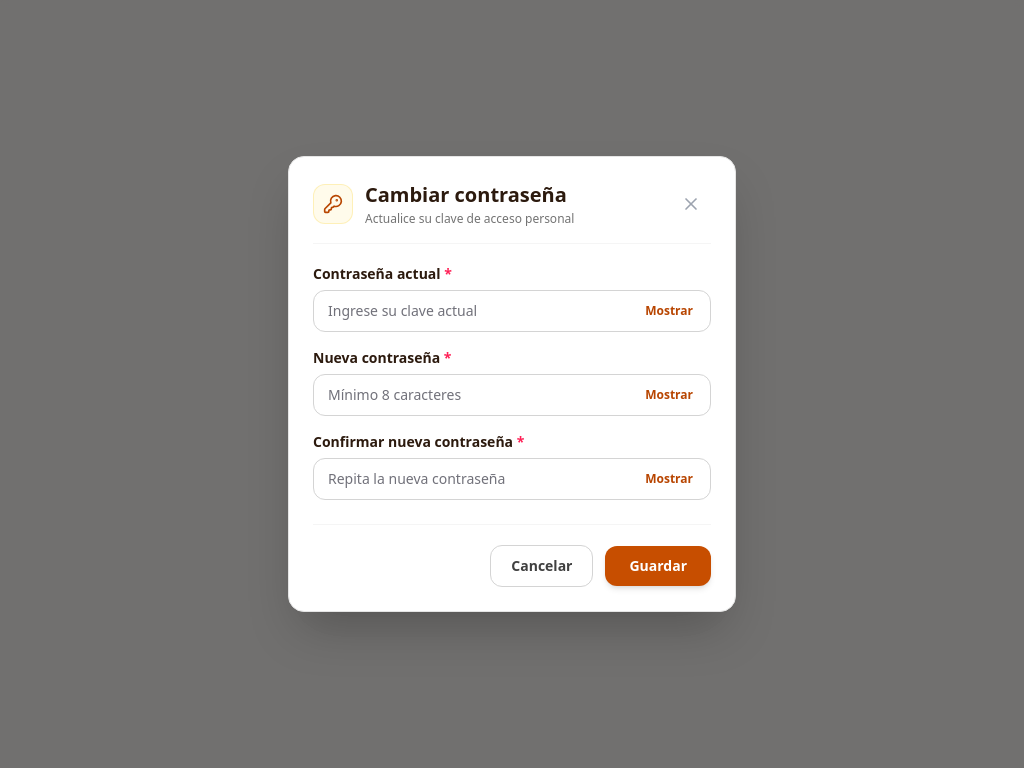
it: ChangePasswordModal - Pruebas de Caracterización y Cambio de Clave › debe alternar la visibilidad de la contraseña al pulsar Mostrar/Ocultar
The width and height of the screenshot is (1024, 768).
Click the 1st button "Mostrar" at x=669, y=311, box x1=637 y1=299 x2=701 y2=323
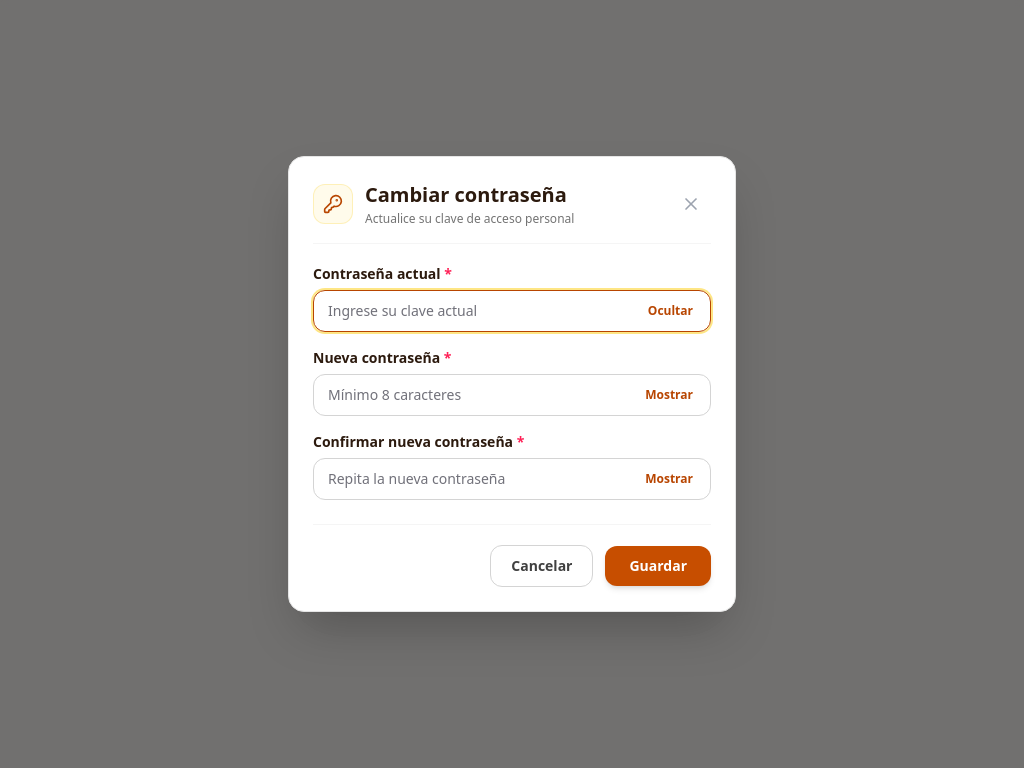
Now the button "Ocultar" is shown, box x1=640 y1=299 x2=701 y2=323
